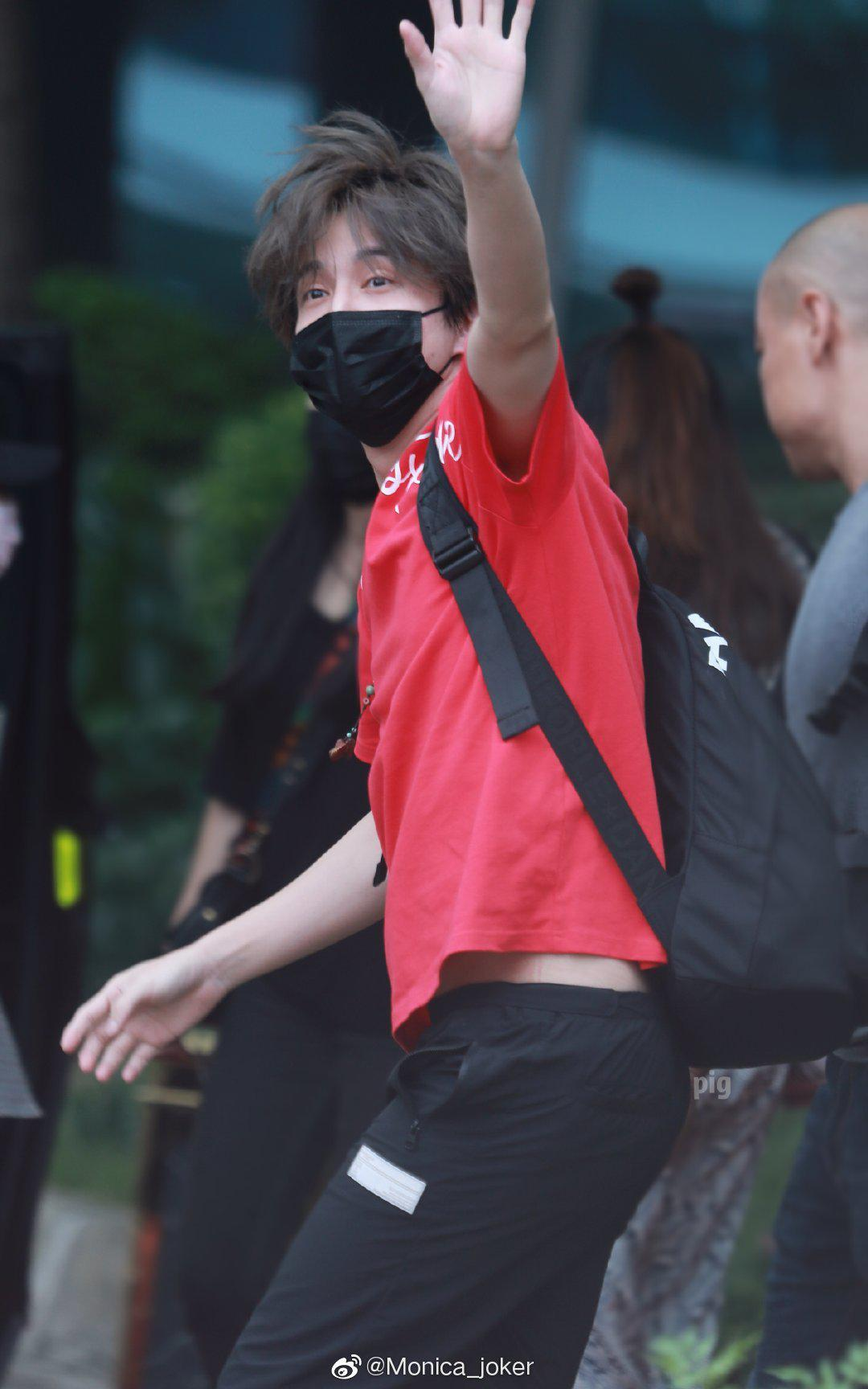NONE: (754, 297, 806, 483)
OK: (289, 241, 443, 444)
